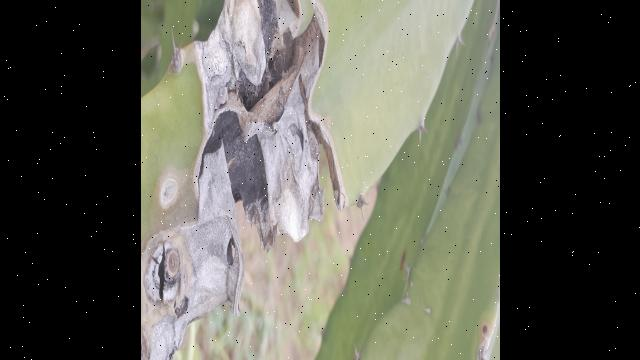stemcanker: (467, 300, 499, 357), (157, 170, 183, 218)
